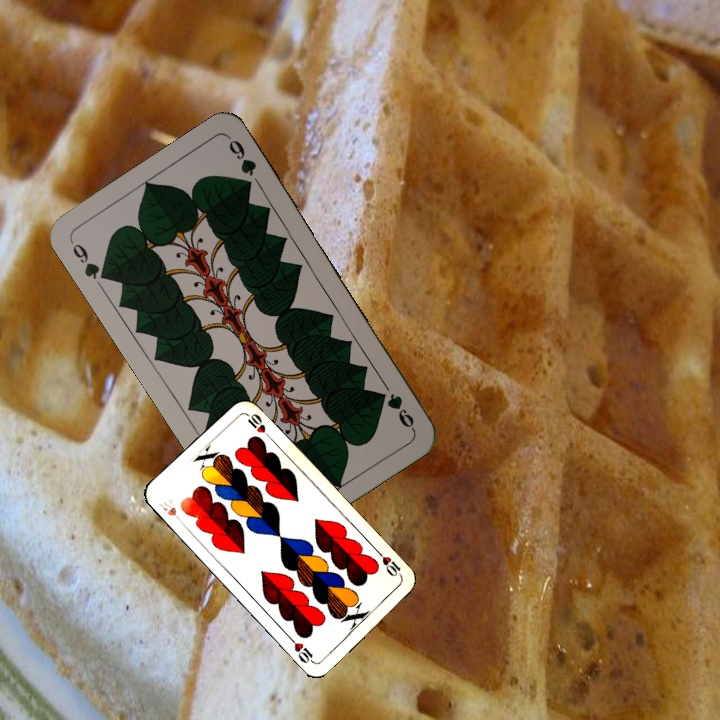G9: (66, 237, 113, 284), (379, 379, 417, 432)
H10: (154, 493, 186, 527), (374, 548, 405, 580)
